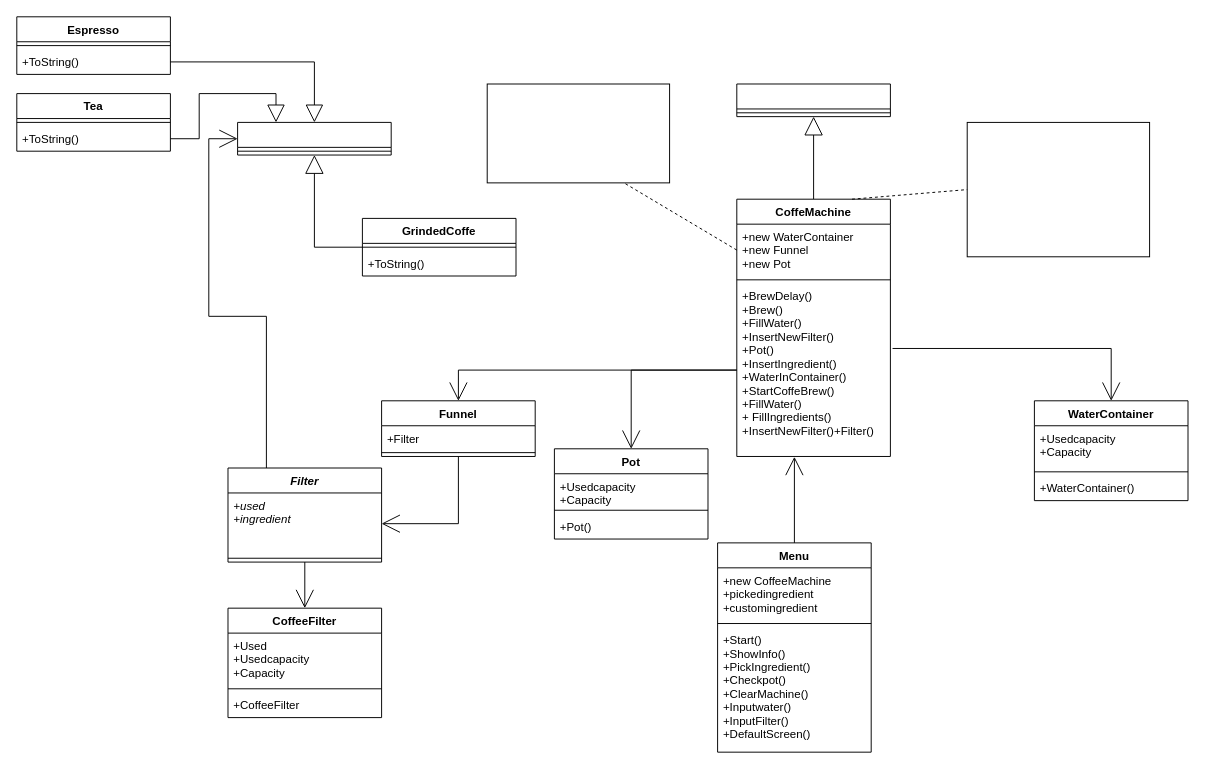
The diagram is 1205 pixels wide and 772 high, and some of its shapes have lost their labels. Here are the shapes that lost their labels. From the top down, the centre of each, then its label:
At (x=813, y=100): "Machine".
At (x=314, y=138): "ingredient".
At (x=578, y=133): "<<Interface>> IBrew + Brew()".
At (x=1058, y=189): "<<Interface>> IFill +FillWater + FillIngredients +InsertNewFilter".
